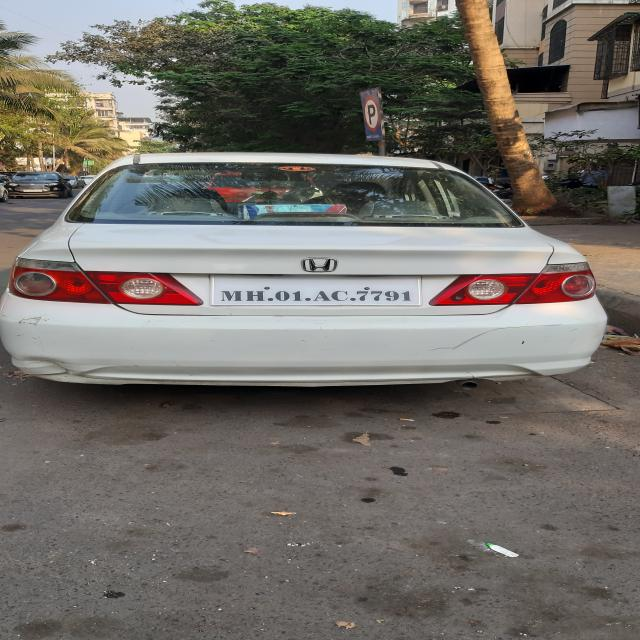Number-Plate: (221, 277, 417, 308)
